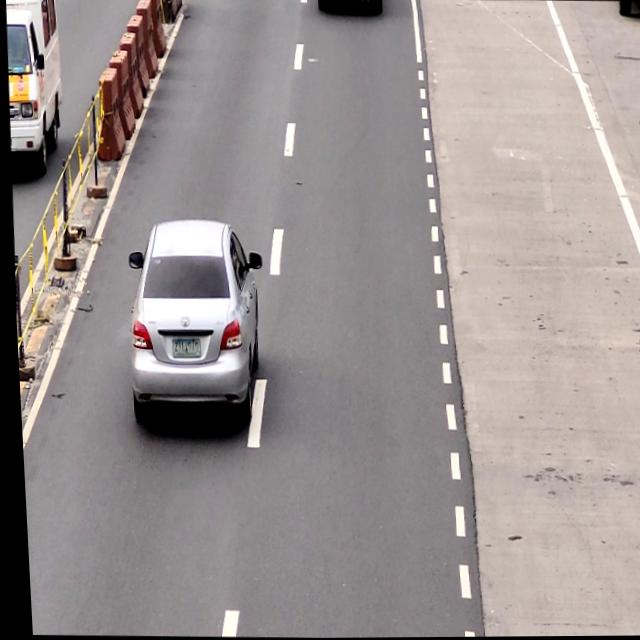Car: (121, 217, 259, 428)
License-Plate: (166, 335, 198, 359)
